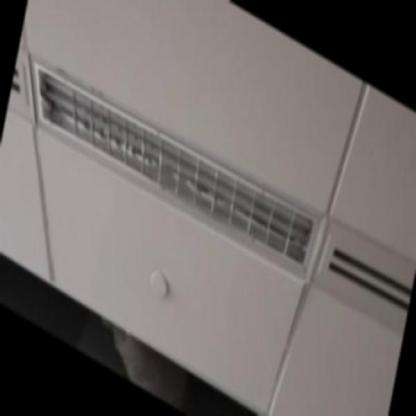light_off: (18, 20, 336, 306)
